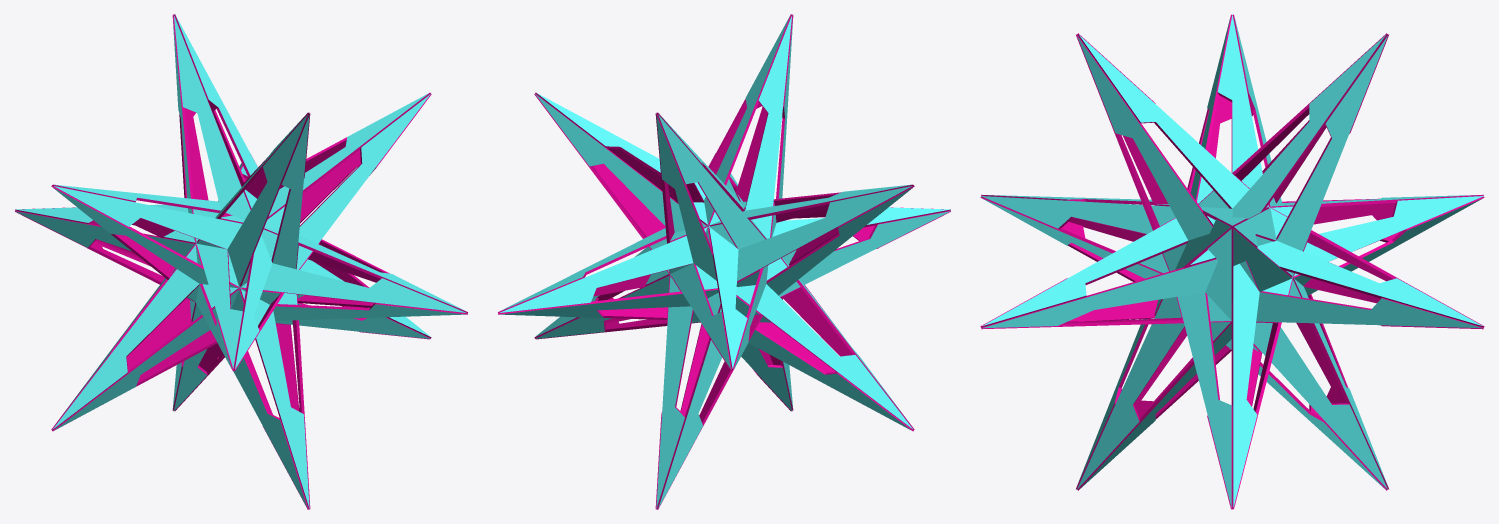
The model's file is MedialTriambicIcosahedronS.glb.
3 views of the same model, side by side, from view 1: azimuth 30°, elevation 25°; view 2: azimuth 150°, elevation 25°; view 3: azimuth 270°, elevation 25° (orthographic). The views are drawn at different scales.
Parts seen in each view (by area): view 1: root; view 2: root; view 3: root.
Part boxes in pixels (box(x1,y1,x2,y2)): root: box(15, 14, 467, 509); root: box(498, 14, 950, 509); root: box(980, 14, 1484, 509).
Bounding box in the file's own units: 7.87 × 7.87 × 7.87.
